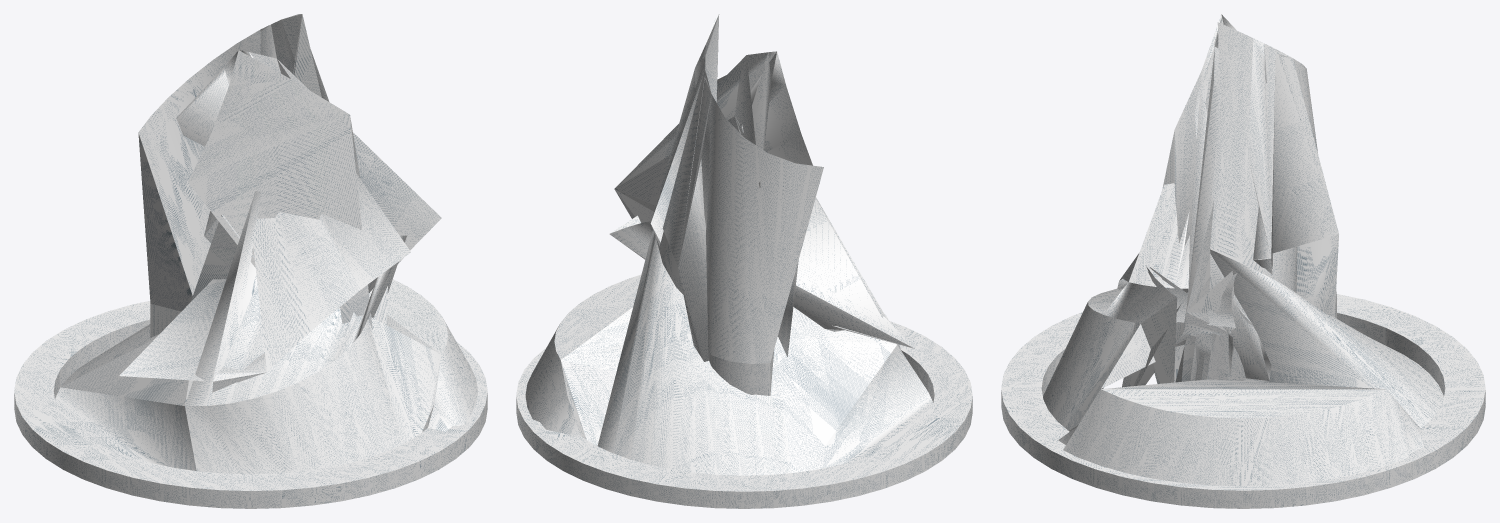
File: idol.dae
3 views of the same model, side by side, from view 1: azimuth 30°, elevation 25°; view 2: azimuth 150°, elevation 25°; view 3: azimuth 270°, elevation 25° (orthographic). The views are drawn at different scales.
Parts seen in each view (by area): view 1: SketchUp; view 2: SketchUp; view 3: SketchUp.
Boxes of the visible parts, box(x1,y1,x2,y2) form: SketchUp: box(14, 14, 487, 508); SketchUp: box(516, 14, 972, 508); SketchUp: box(1001, 14, 1485, 508).
Bounding box in the file's own units: 12 × 12 × 11.04.
